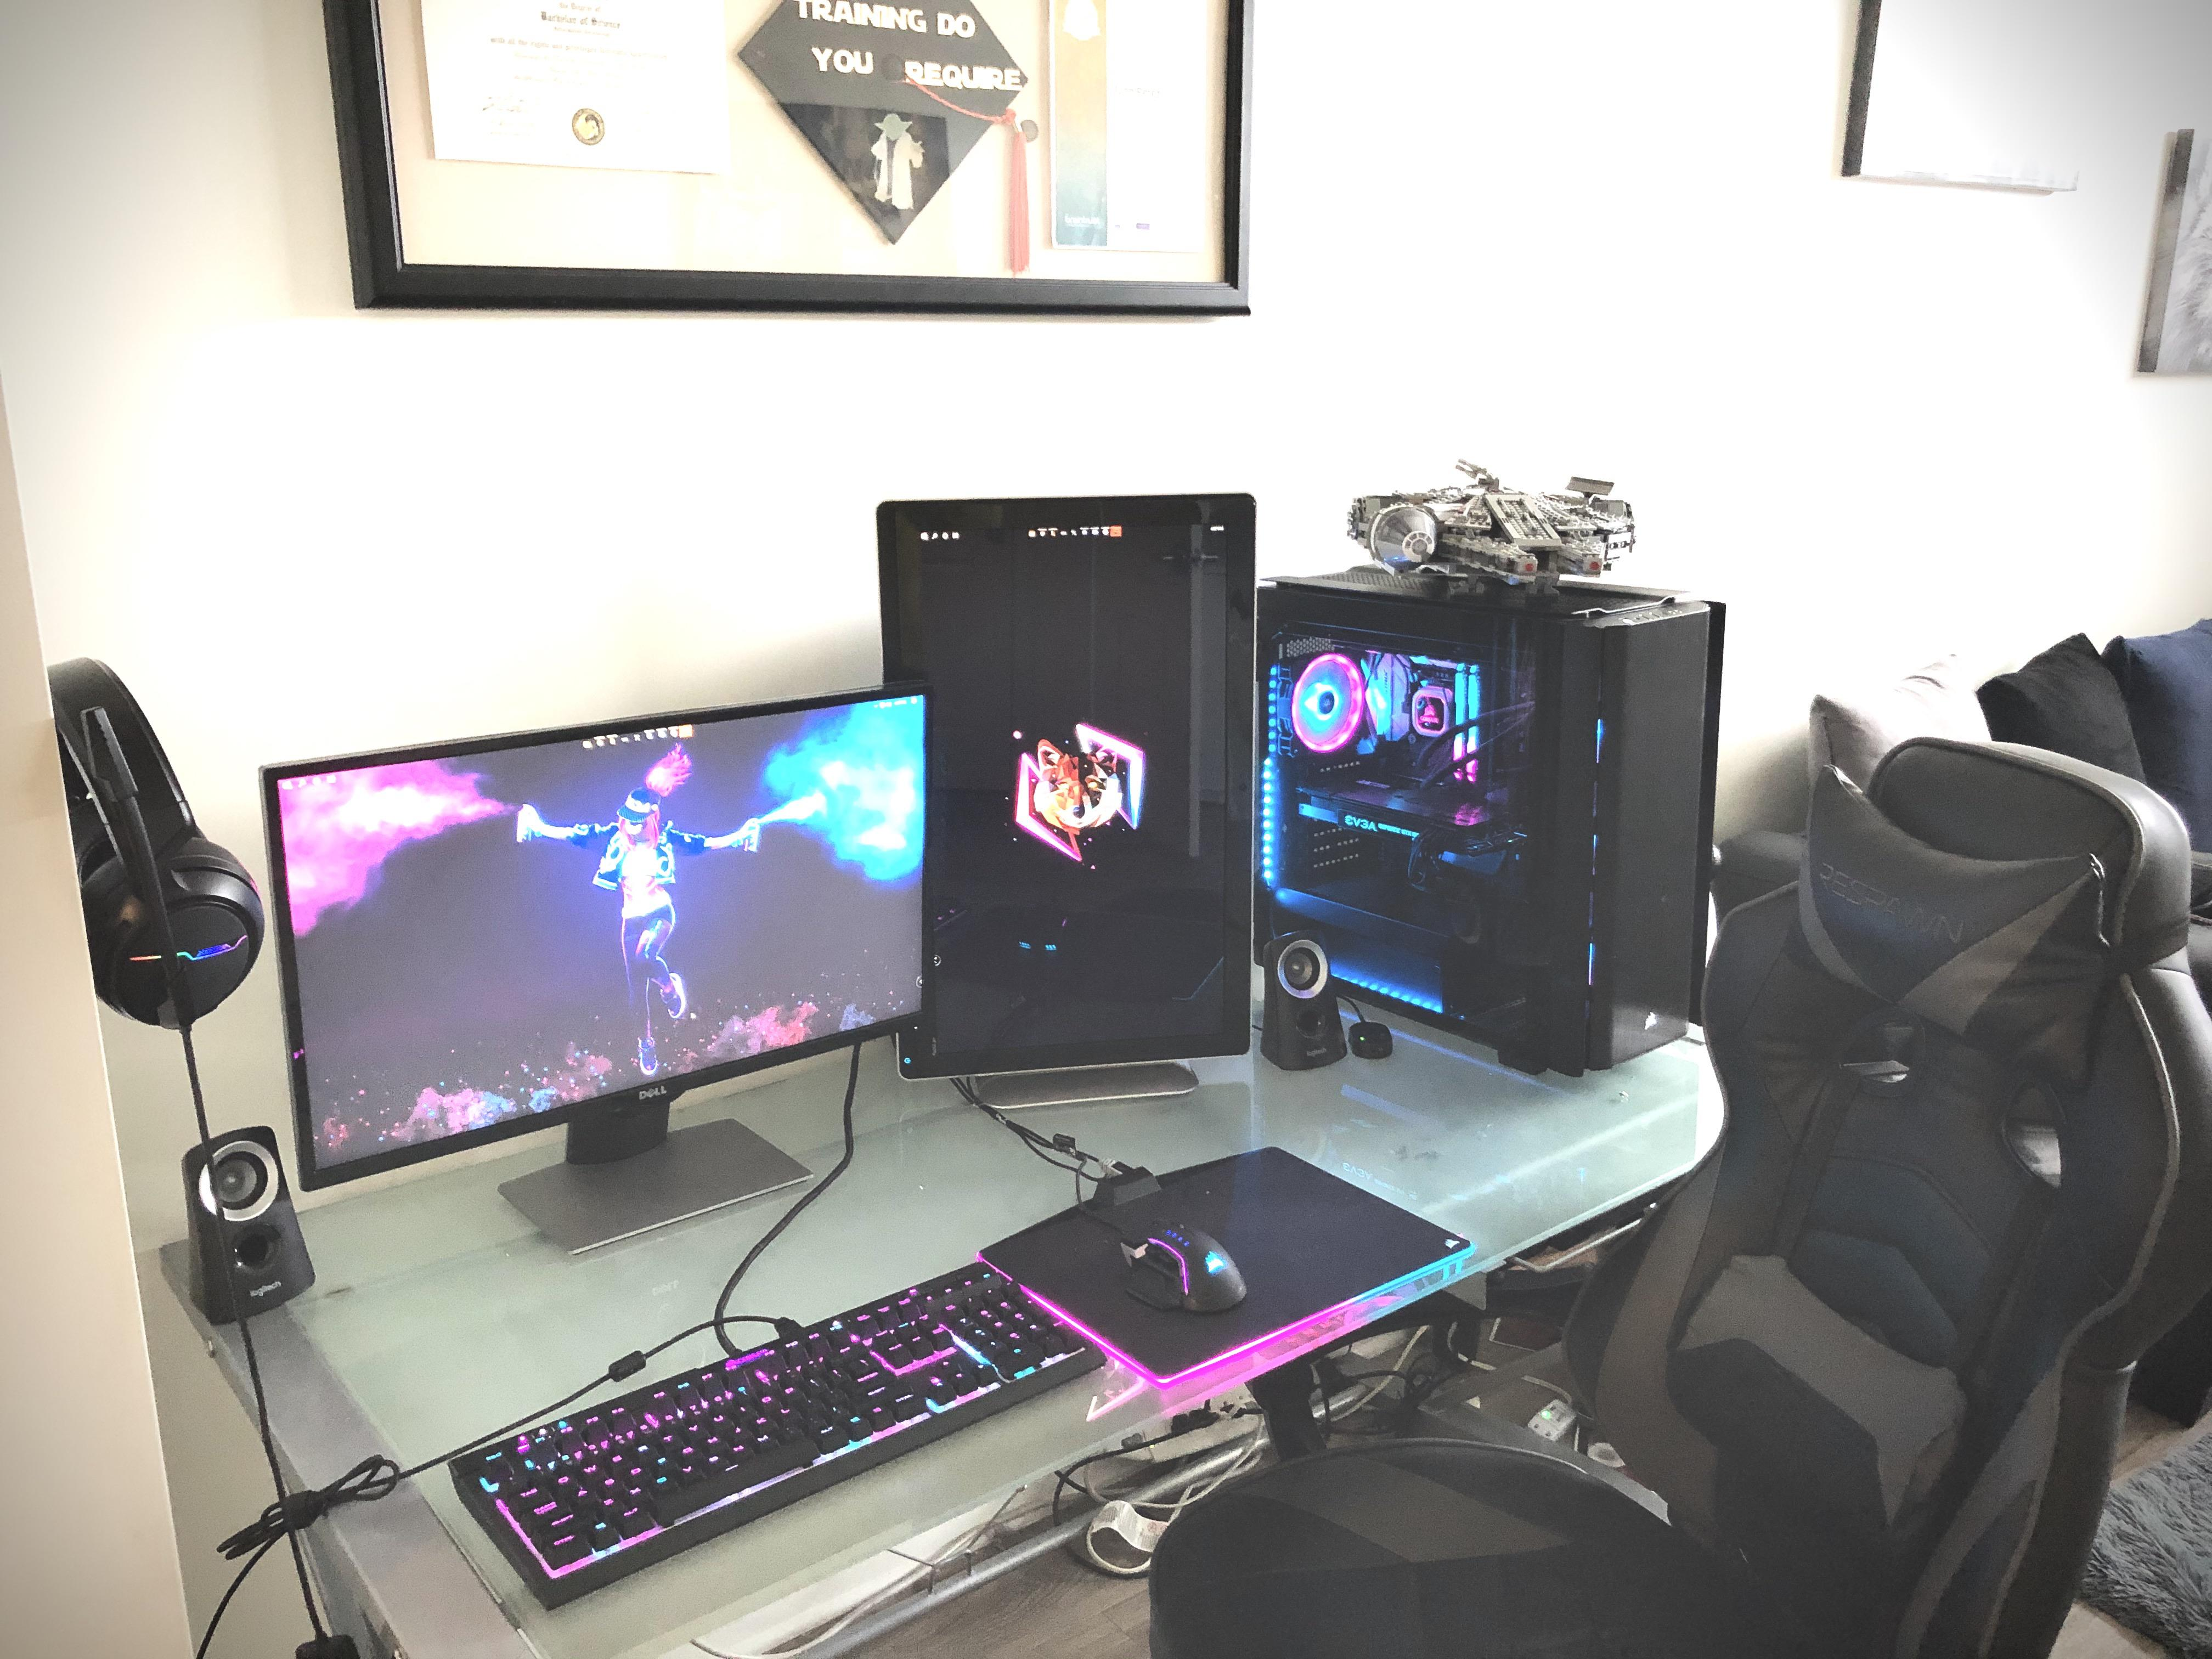Chair (Gaming): (1116, 735, 2205, 1649)
Decoration (Miniature): (1324, 420, 1662, 594)
Desktop (Windows): (1275, 561, 1724, 1084)
External Speakers (Generic): (178, 1114, 317, 1342), (1263, 920, 1353, 1054)
Headphones (with Microphone): (26, 638, 256, 1032)
Keyboard (Gaming): (479, 1255, 1062, 1619)
Monitor (Landscape): (242, 751, 942, 1084), (874, 477, 1256, 1068)
Mouse (Gaming): (1101, 1227, 1249, 1333)
